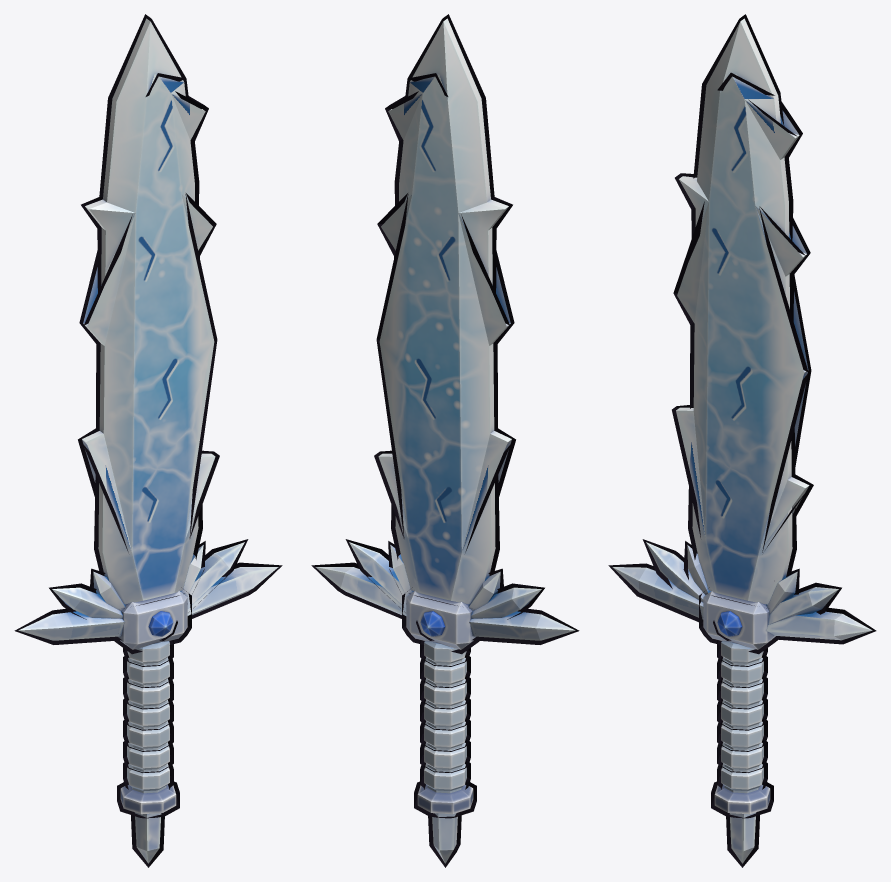
Rendered from FrostSword.fbx.
The picture shows the model from 3 angles, left to right: view 1: azimuth 30°, elevation 25°; view 2: azimuth 150°, elevation 25°; view 3: azimuth 330°, elevation 25°; orthographic projection.
Parts seen in each view (by area): view 1: FrostSword, FrostSwordOutline; view 2: FrostSword, FrostSwordOutline; view 3: FrostSword, FrostSwordOutline.
Part boxes in pixels (left/top/right/bottom): FrostSword: left=18, top=18, right=278, bottom=863; FrostSwordOutline: left=14, top=14, right=282, bottom=867; FrostSword: left=315, top=18, right=575, bottom=863; FrostSwordOutline: left=311, top=14, right=579, bottom=867; FrostSword: left=612, top=18, right=872, bottom=863; FrostSwordOutline: left=608, top=14, right=876, bottom=867.
Size of the model in its own units: 151 by 458 by 38.4.
Materials: 2 (1 with a texture image).
